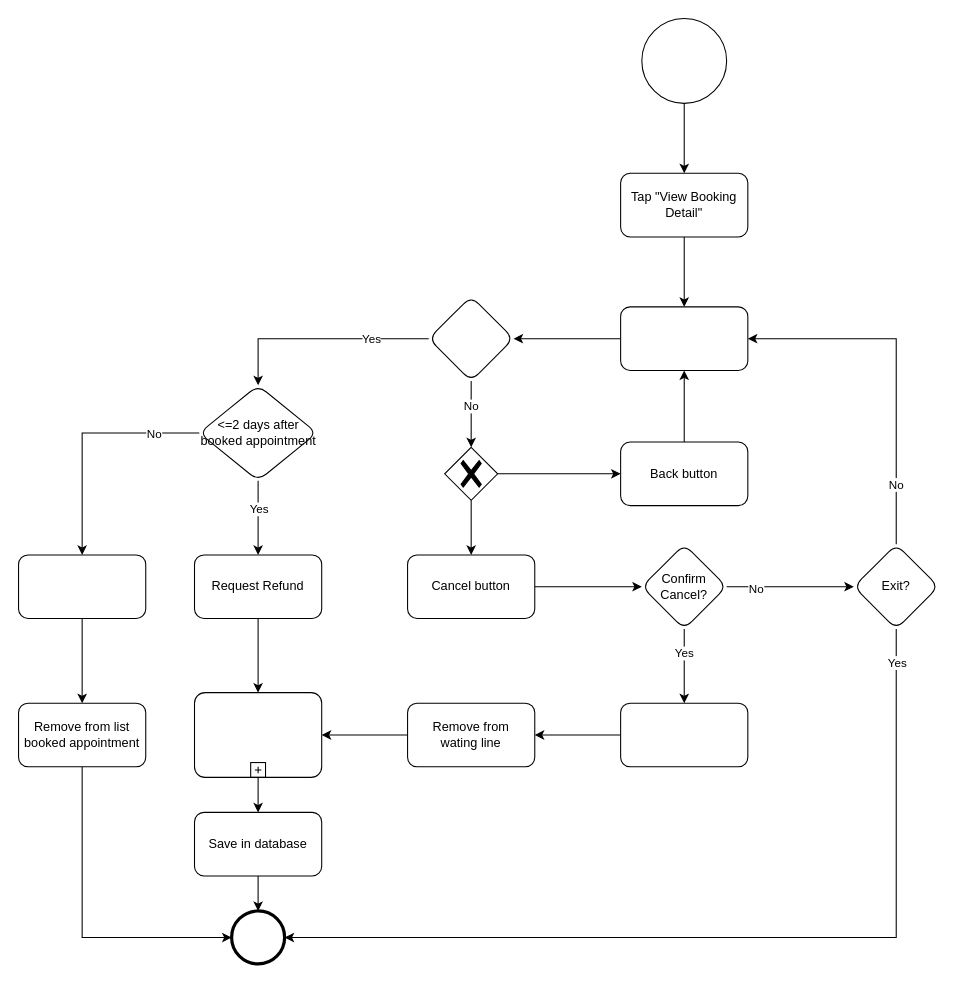
Image size: 957x983. Some labels were removed from this diagram. The shapes that lost their labels are listed below. From the top down, each one's centre as x and y in pixels, then its label:
pixel 471 338: Out of Date?
pixel 684 338: Choose booked appointment
pixel 81 586: Message: "You are 2 days overdue and refund is unavailable"
pixel 257 734: Refund
pixel 684 734: Cancellation reason
